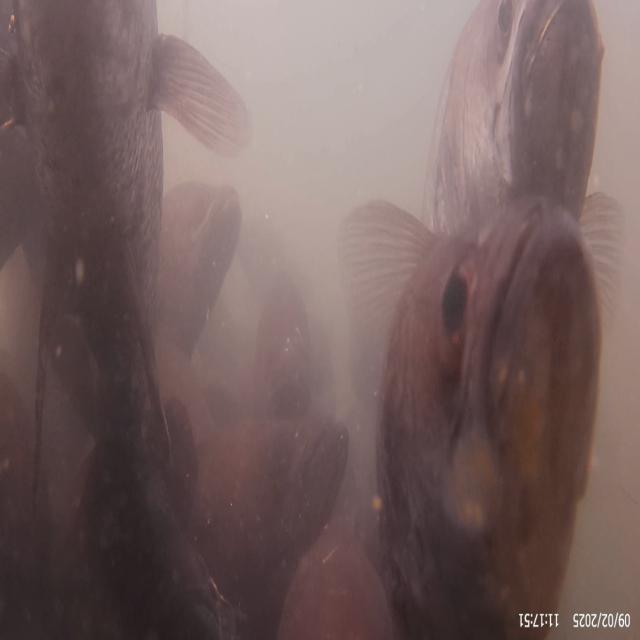ikan: (362, 204, 600, 586), (20, 7, 226, 406), (448, 7, 608, 197)
